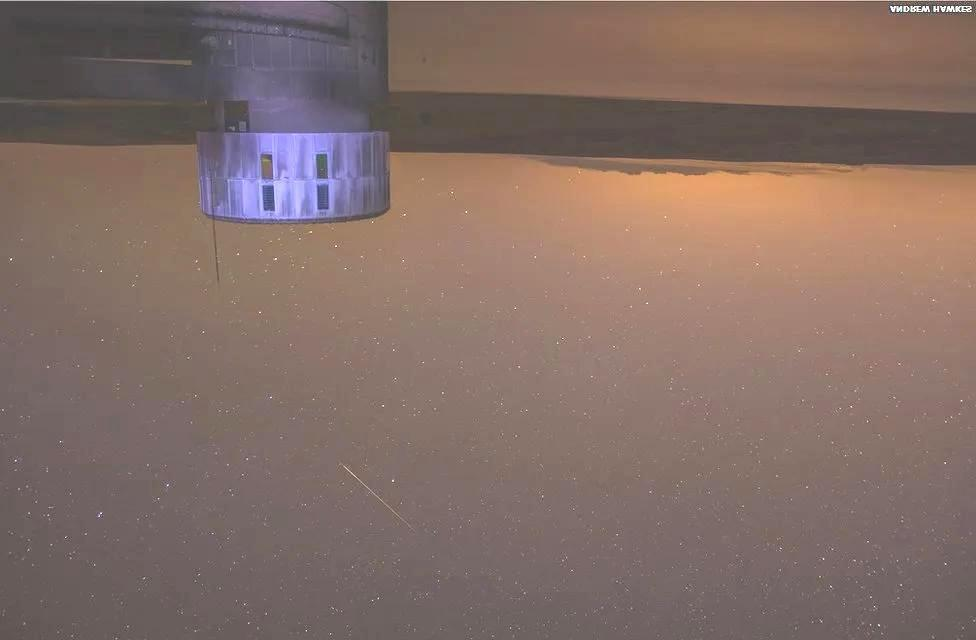meteorite: (317, 430, 420, 540)
